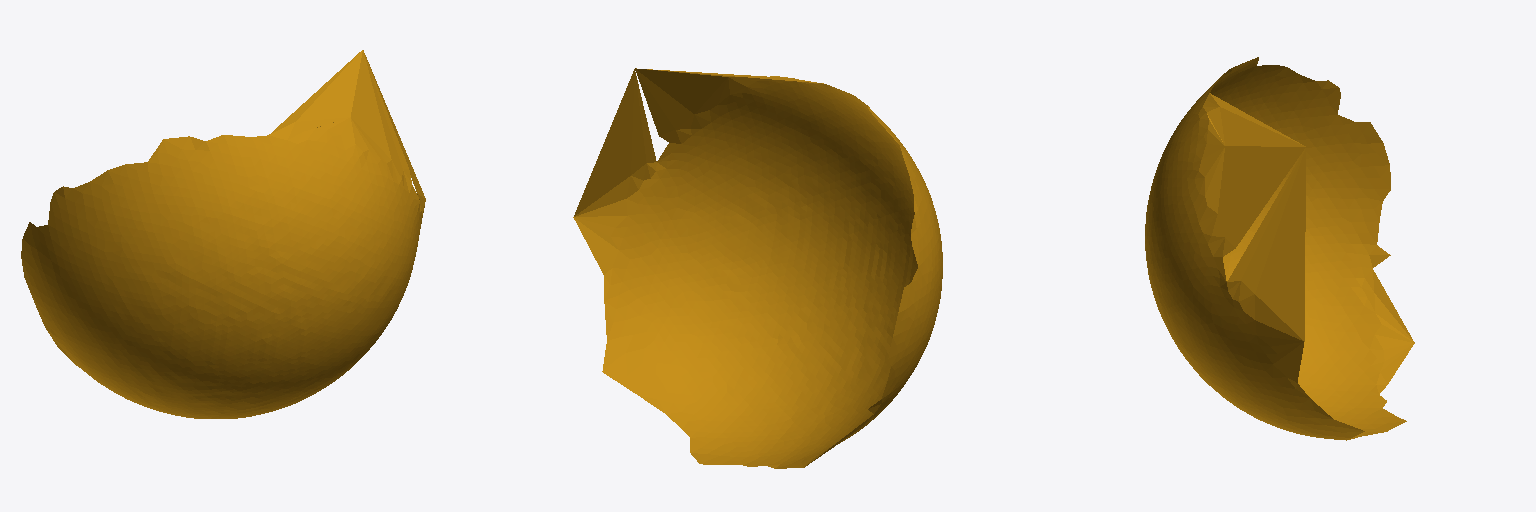
File: CameraFocus_P28.000001.obj
3 views of the same model, side by side, from view 1: azimuth 30°, elevation 25°; view 2: azimuth 150°, elevation 25°; view 3: azimuth 270°, elevation 25° (orthographic).
Parts seen in each view (by area): view 1: CameraFocus_P28.000001; view 2: CameraFocus_P28.000001; view 3: CameraFocus_P28.000001.
Boxes of the visible parts, x1=… form: CameraFocus_P28.000001: x1=21, y1=50, x2=425, y2=418; CameraFocus_P28.000001: x1=573, y1=68, x2=942, y2=468; CameraFocus_P28.000001: x1=1145, y1=57, x2=1414, y2=440.
Size of the model in its own units: 165 by 145 by 105.